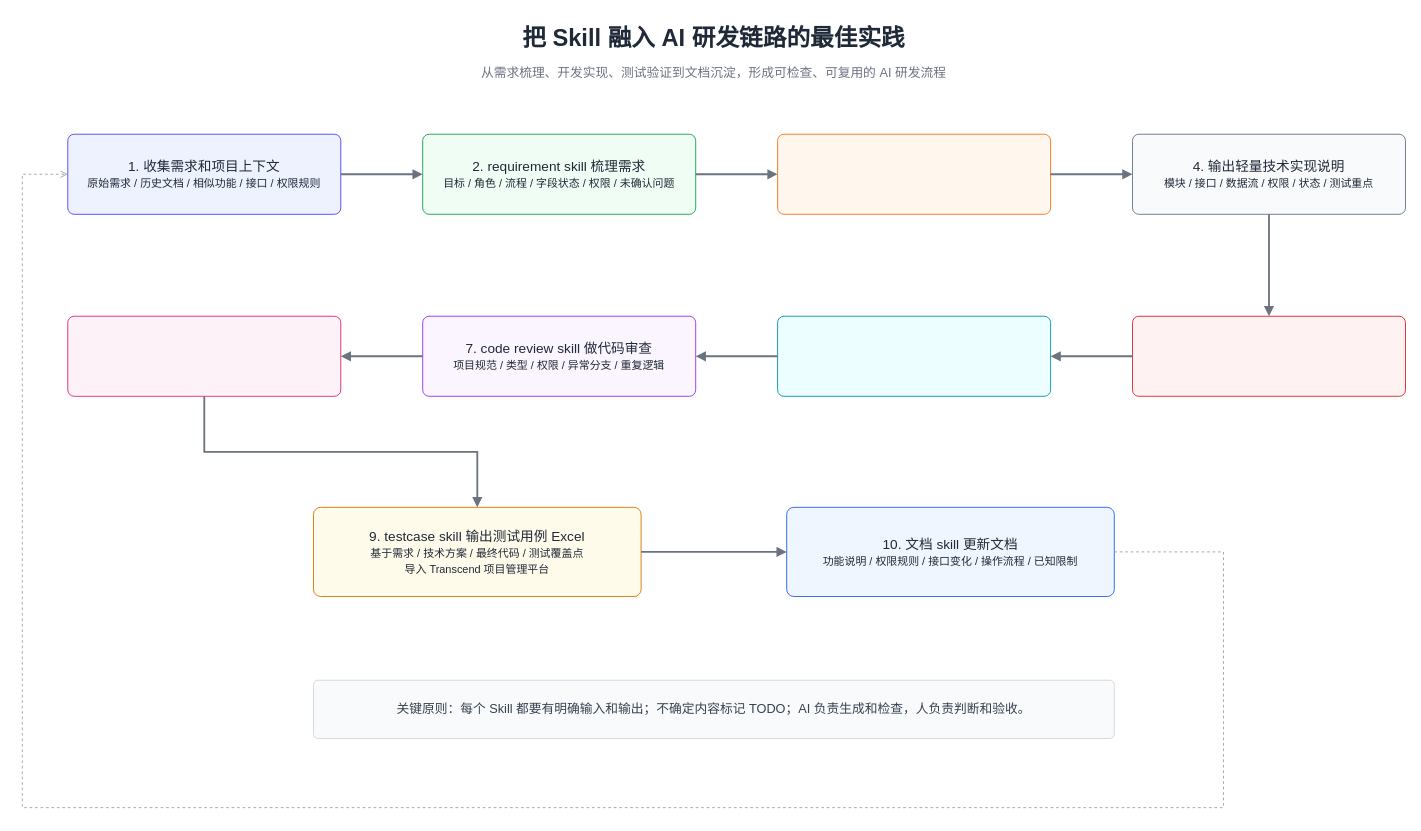
Some shapes in this 1421 by 831 pixel diagram are drawn without their labels. The shapes that lost their labels are listed below. From the top down, each one's centre as x and y in pixels, then its label:
At pixel 914 173: "3. grillwithdoc skill 拷问需求 边界 / 风险 / 异常场景 / 业务模型冲突 / 待确认项".
At pixel 204 355: "8. 本地运行，人工走查核心流程 页面 / 搜索分页 / 表单 / 弹窗 / 权限按钮 / 错误提示".
At pixel 914 355: "6. testing skill 补齐测试 单元测试 / 组件测试 / 页面行为 / 边界场景".
At pixel 1268 355: "5. TDD skill 实现核心逻辑 先写测试 / 再实现 / 跑通后重构".
